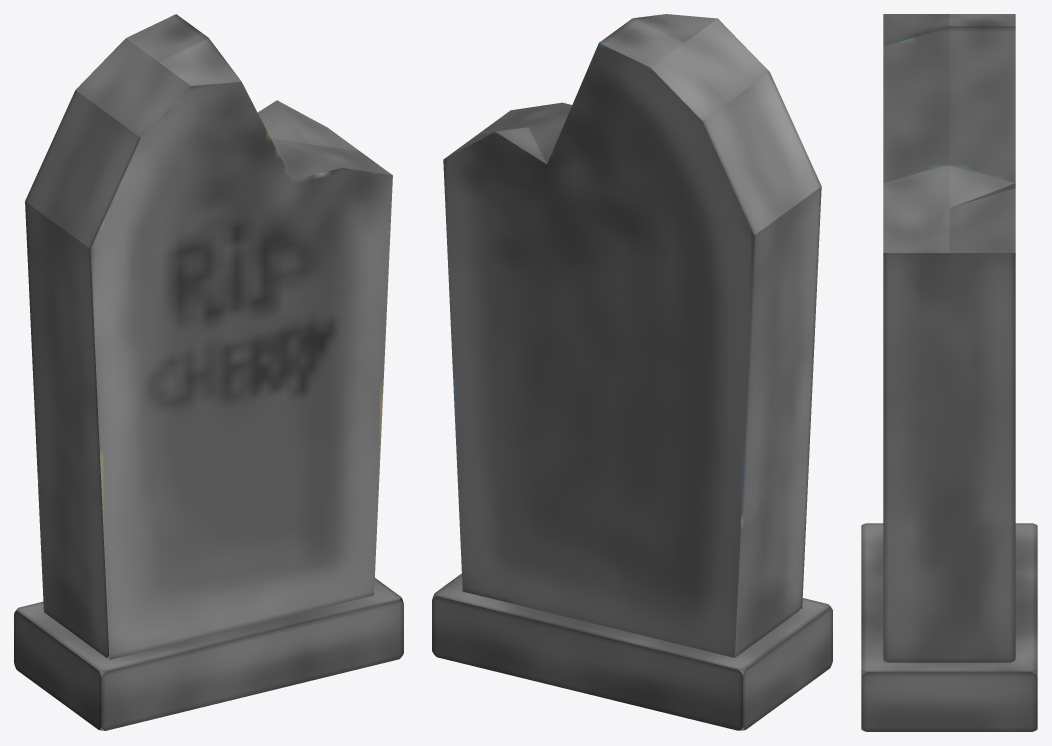
The model's file is CherryGrave by Cherry.fbx.
The picture shows the model from 3 angles, left to right: view 1: azimuth 30°, elevation 25°; view 2: azimuth 150°, elevation 25°; view 3: azimuth 270°, elevation 25°; orthographic projection. The views are drawn at different scales.
Visible parts, largest first — view 1: mesh_1, mesh; view 2: mesh_1, mesh; view 3: mesh_1, mesh.
Part boxes in pixels (x1,y1,x2,y2): mesh_1: (25,14,392,659); mesh: (14,578,403,730); mesh_1: (443,14,821,657); mesh: (432,573,832,730); mesh_1: (883,14,1015,662); mesh: (861,523,1037,731).
Size of the model in its own units: 100 by 198 by 50.
Materials: 1 (1 with a texture image).
